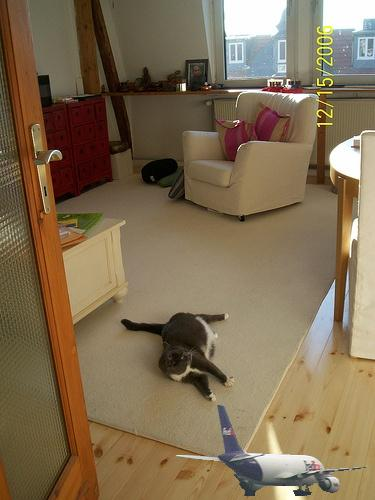tampered: (177, 406, 371, 496)
